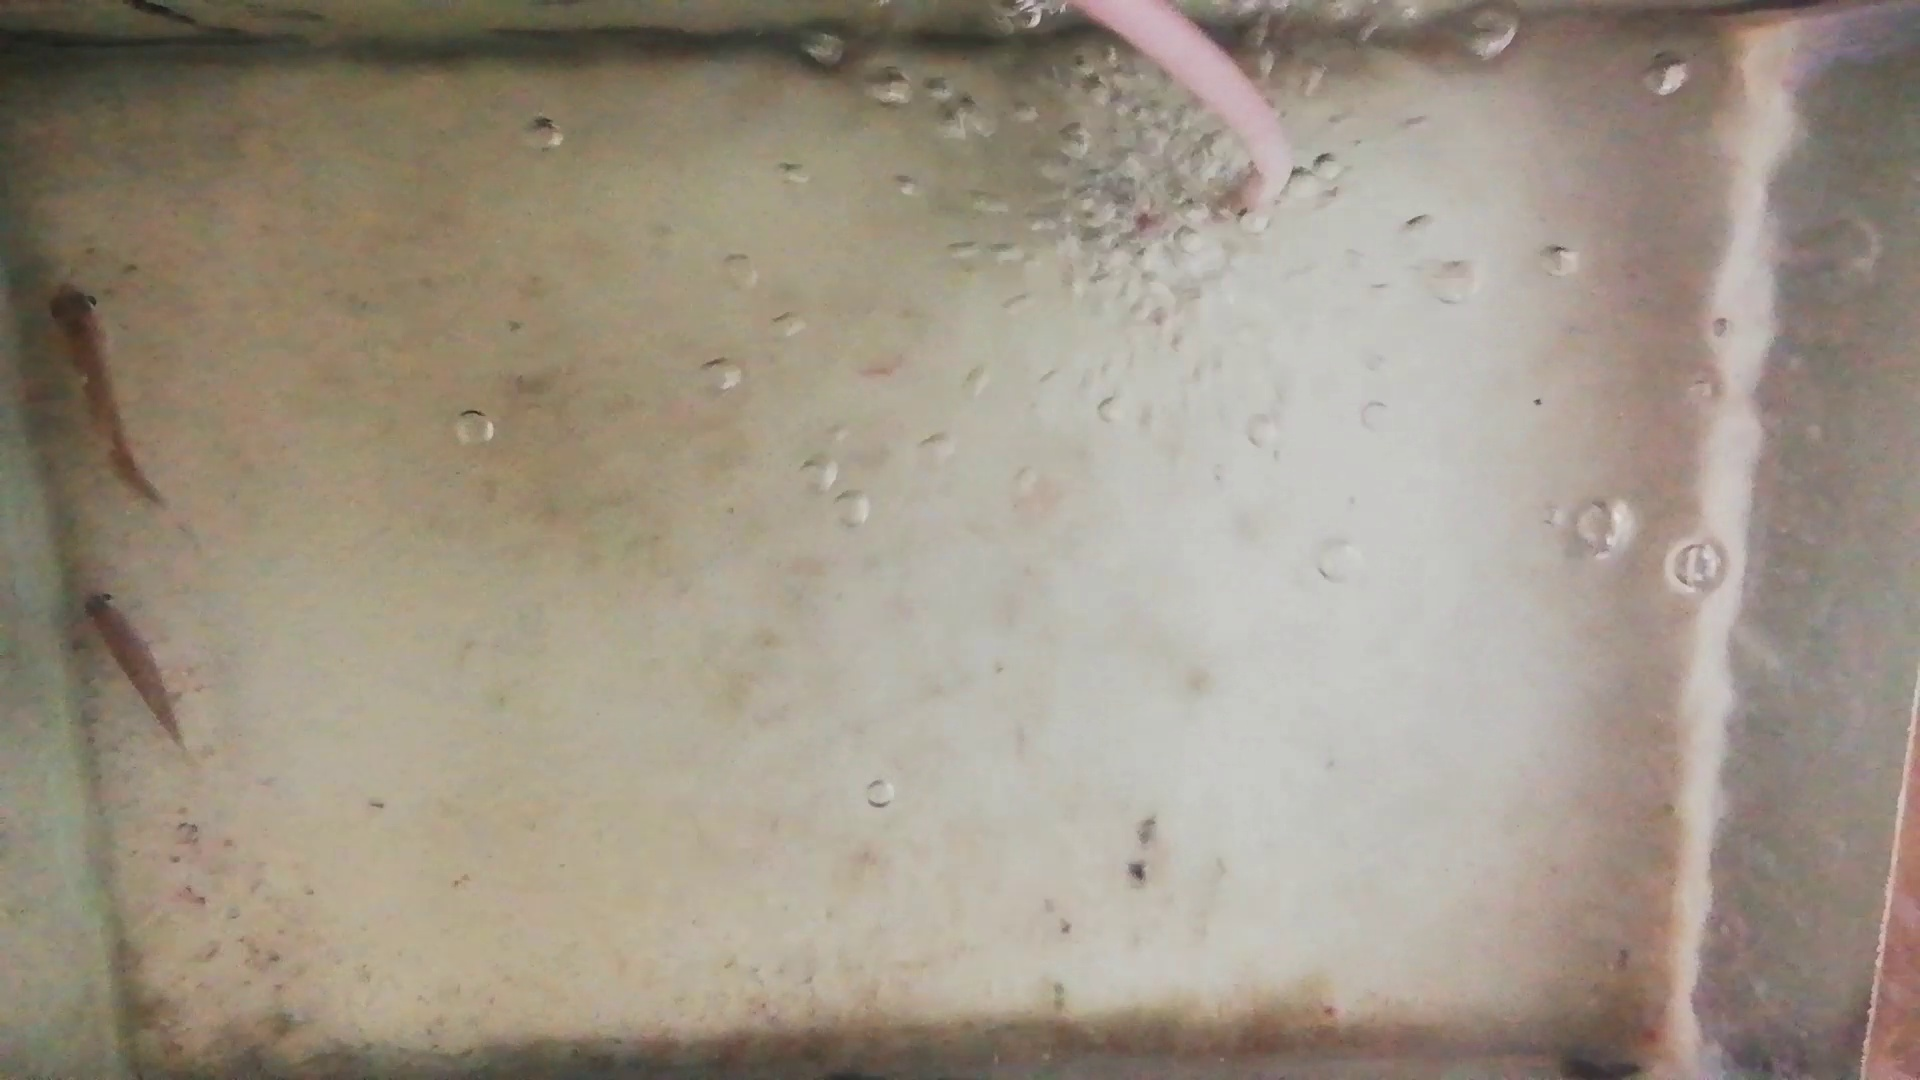fish: (44, 276, 166, 516), (76, 587, 185, 746)
